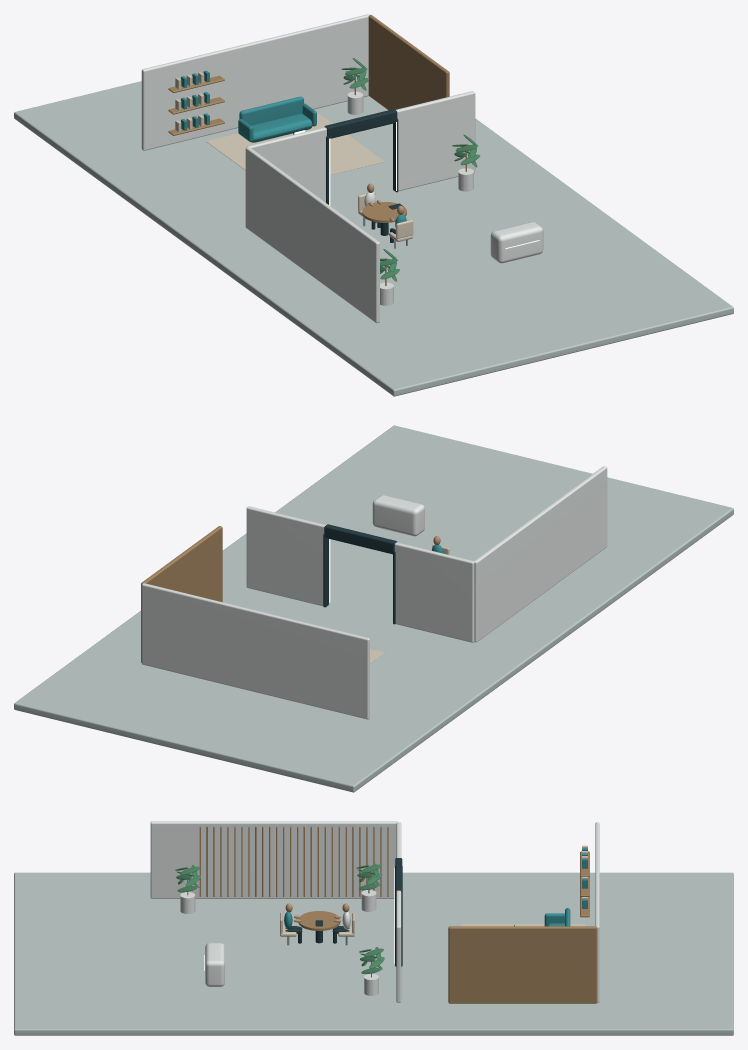
The model's file is clinic-home-blockout-v1.glb.
3 renders of one model, top to bottom at view 1: azimuth 30°, elevation 25°; view 2: azimuth 150°, elevation 25°; view 3: azimuth 270°, elevation 25°, orthographic. The views are drawn at different scales.
Parts seen in each view (by area): view 1: Continuous ground, Home back wall, Clinic side, Clinic rear right, Home side, Clinic rear left, Home rug, Welcome island, Sofa back, Portal lintel, Sofa seat, Shared consultation table; view 2: Continuous ground, Home back wall, Clinic side, Clinic rear left, Clinic rear right, Home side, Welcome island, Portal lintel; view 3: Continuous ground, Clinic side, Home side, Welcome island, Home back wall, Clinic rear right, Shared consultation table.
Part boxes in pixels (x1,y1,x2,y2): Continuous ground: (14, 81, 733, 396); Home back wall: (141, 14, 368, 150); Clinic side: (245, 147, 379, 323); Clinic rear right: (396, 91, 475, 191); Home side: (368, 14, 449, 110); Clinic rear left: (247, 127, 326, 202); Home rug: (206, 113, 384, 174); Welcome island: (490, 222, 543, 263); Sofa back: (239, 96, 303, 125); Portal lintel: (324, 109, 397, 138); Sofa seat: (251, 114, 312, 142); Shared consultation table: (362, 202, 406, 222); Continuous ground: (14, 425, 733, 792); Home back wall: (141, 583, 369, 719); Clinic side: (474, 466, 607, 642); Clinic rear left: (394, 542, 474, 642); Clinic rear right: (246, 506, 325, 606); Home side: (141, 526, 222, 662); Welcome island: (372, 495, 424, 536); Portal lintel: (324, 524, 396, 554); Continuous ground: (14, 872, 733, 1035); Clinic side: (150, 821, 398, 898); Home side: (448, 926, 597, 1003); Welcome island: (205, 943, 224, 986); Home back wall: (595, 822, 599, 1002); Clinic rear right: (396, 890, 401, 1002); Shared consultation table: (298, 911, 340, 930).
Bounding box in the file's own units: 15 × 3.73 × 29.
